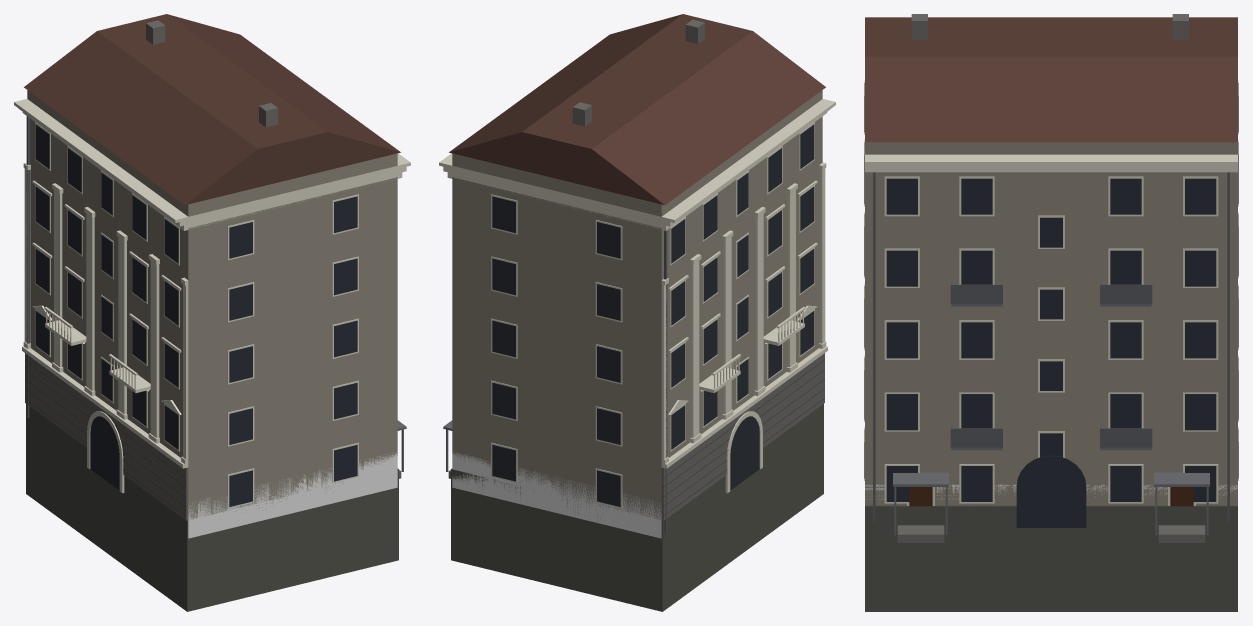
File: house-stalin-5.glb
The picture shows the model from 3 angles, left to right: view 1: azimuth 30°, elevation 25°; view 2: azimuth 150°, elevation 25°; view 3: azimuth 270°, elevation 25°; orthographic projection. The views are drawn at different scales.
Parts seen in each view (by area): view 1: 01_paint0, 08_#5a4038, 00_#55554f, 03_#d8d4c4, 04_#2e333b, 02_#6e6c68, solid, 06_#5c5e62; view 2: 01_paint0, 08_#5a4038, 00_#55554f, 03_#d8d4c4, 04_#2e333b, 02_#6e6c68, solid, 06_#5c5e62; view 3: 01_paint0, 08_#5a4038, 00_#55554f, 04_#2e333b, 03_#d8d4c4, 06_#5c5e62, 05_#6a6c70, 02_#6e6c68, 07_#4a3020, solid.
Part boxes in pixels (bbox=[...]): 01_paint0: bbox=[27, 90, 397, 519]; 08_#5a4038: bbox=[24, 14, 400, 204]; 00_#55554f: bbox=[25, 359, 398, 611]; 03_#d8d4c4: bbox=[14, 99, 410, 508]; 04_#2e333b: bbox=[35, 124, 357, 506]; 02_#6e6c68: bbox=[25, 20, 401, 520]; solid: bbox=[188, 452, 397, 538]; 06_#5c5e62: bbox=[26, 116, 29, 417]; 01_paint0: bbox=[452, 90, 822, 519]; 08_#5a4038: bbox=[449, 14, 825, 204]; 00_#55554f: bbox=[451, 359, 824, 611]; 03_#d8d4c4: bbox=[439, 99, 835, 508]; 04_#2e333b: bbox=[492, 124, 814, 506]; 02_#6e6c68: bbox=[448, 19, 824, 520]; solid: bbox=[452, 451, 661, 538]; 06_#5c5e62: bbox=[664, 230, 667, 532]; 01_paint0: bbox=[865, 142, 1237, 505]; 08_#5a4038: bbox=[865, 17, 1237, 142]; 00_#55554f: bbox=[865, 505, 1237, 611]; 04_#2e333b: bbox=[864, 83, 1238, 527]; 03_#d8d4c4: bbox=[864, 80, 1238, 505]; 06_#5c5e62: bbox=[873, 172, 1229, 521]; 05_#6a6c70: bbox=[893, 304, 1209, 535]; 02_#6e6c68: bbox=[897, 14, 1205, 542]; 07_#4a3020: bbox=[909, 487, 1193, 506]; solid: bbox=[865, 484, 1237, 499].
Bounding box in the file's own units: 14.22 × 25.3 × 16.09.
